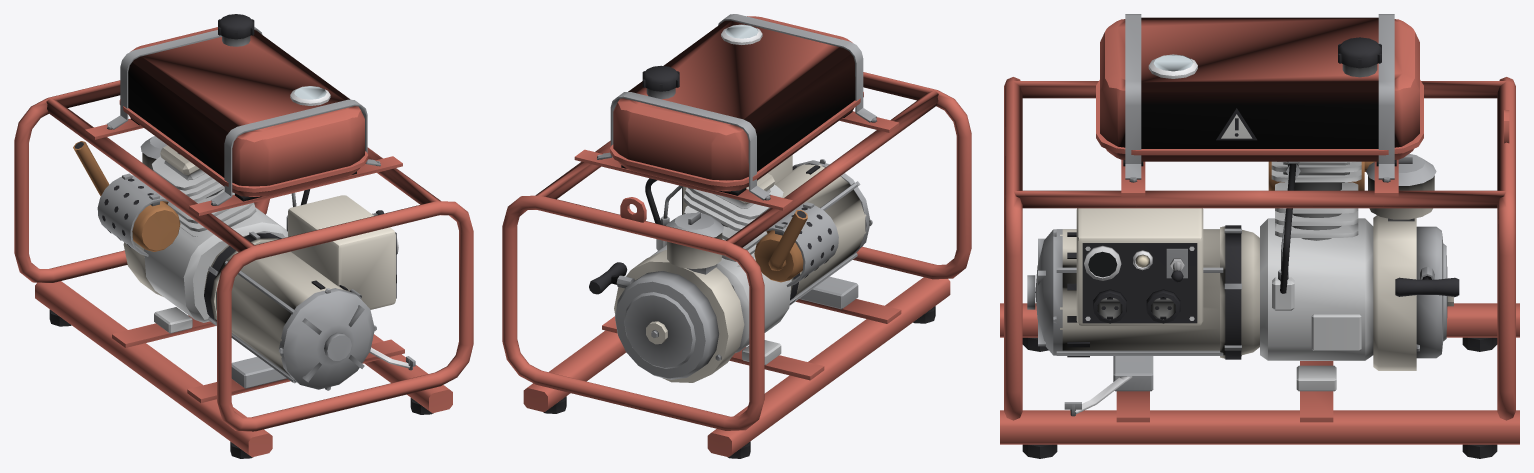
File: generator.glb
3 views of the same model, side by side, from view 1: azimuth 30°, elevation 25°; view 2: azimuth 150°, elevation 25°; view 3: azimuth 270°, elevation 25° (orthographic). The views are drawn at different scales.
Visible parts, largest first — view 1: PART, CAP; view 2: PART, CAP, CORD; view 3: PART, CAP, CORD.
Boxes of the visible parts, x1,y1,x2,y2 form: PART: (14,27,473,458); CAP: (218,14,254,39); PART: (502,14,971,458); CAP: (642,65,679,91); CORD: (589,262,627,294); PART: (1000,14,1519,458); CAP: (1338,37,1381,68); CORD: (1395,275,1459,296).
Bounding box in the file's own units: 0.538 × 0.618 × 0.78.
